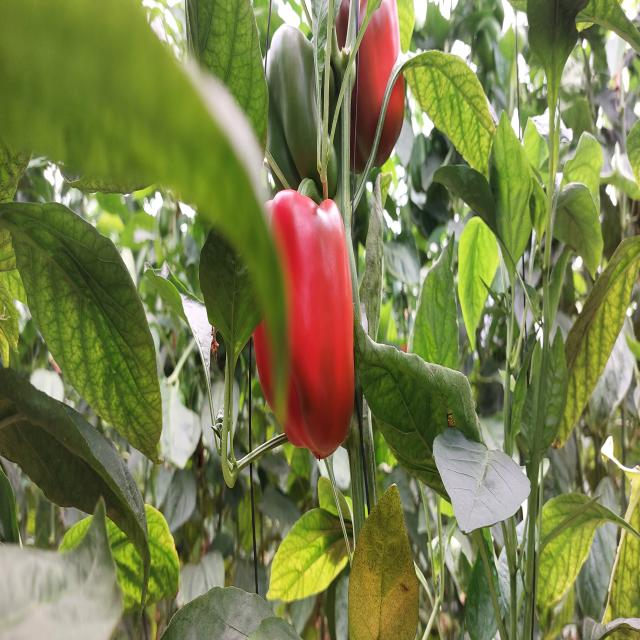Green--Not-ready-to-harvest: (260, 20, 345, 170)
Red-Ready-to-Harvest: (244, 182, 366, 463), (336, 2, 418, 141)
